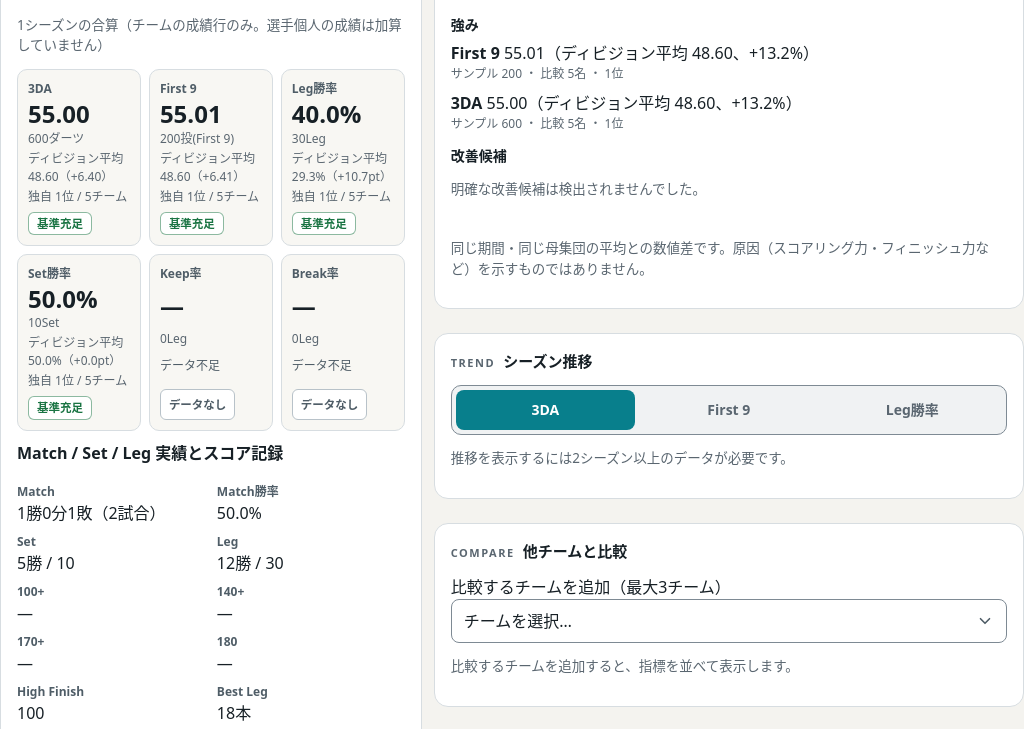
Test: TeamAnalytics screen › compares teams side by side
Select "Beta" in the dropdown labelled "比較するチームを追加（最大3チーム）" at (729, 620), box [451,598,1007,642]
(page scrolled)
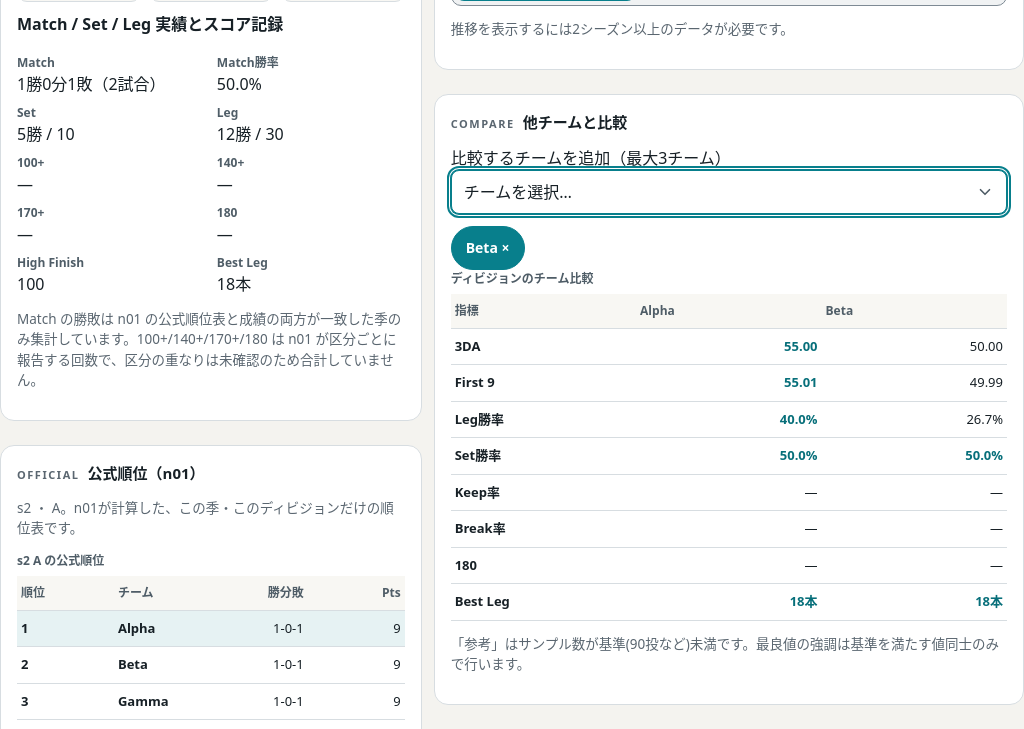
Now the column heading "Beta" below "のチーム比較" is shown, box [826,302,853,318]
Now the text "50.00" is shown, box [822,328,1007,364]
